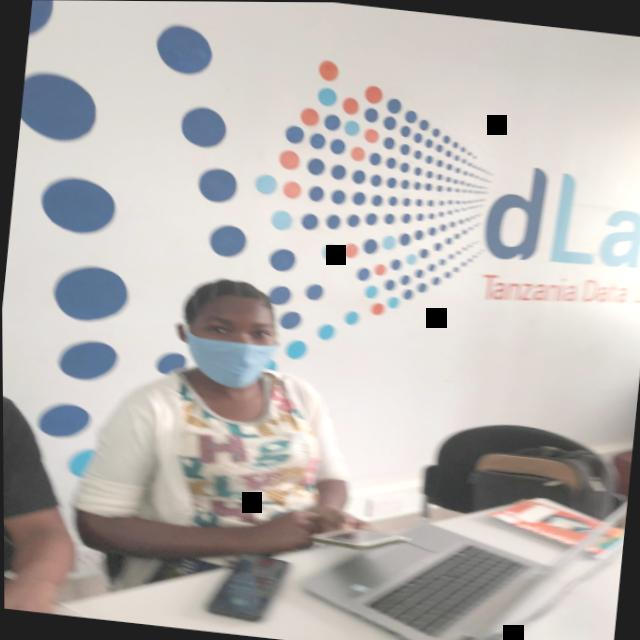Mask: (183, 290, 281, 389)
